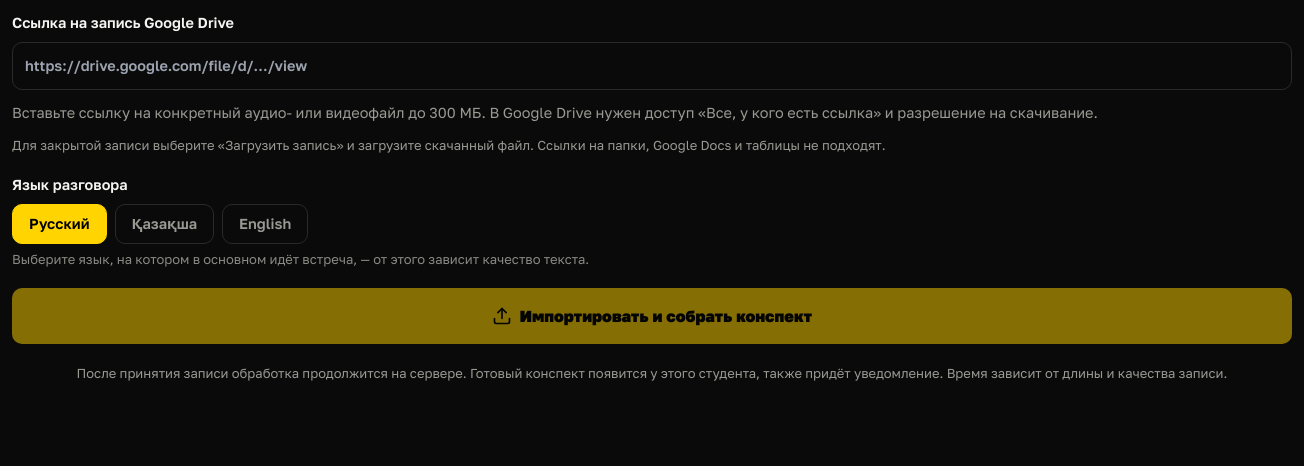
Test case: shows access errors and keeps the link for retry
The width and height of the screenshot is (1304, 466).
Type "https://drive.google.com/file/d/abc123def456ghi789/view" into the field labelled "Ссылка на запись Google Drive" at (652, 66), box x1=12 y1=42 x2=1292 y2=90
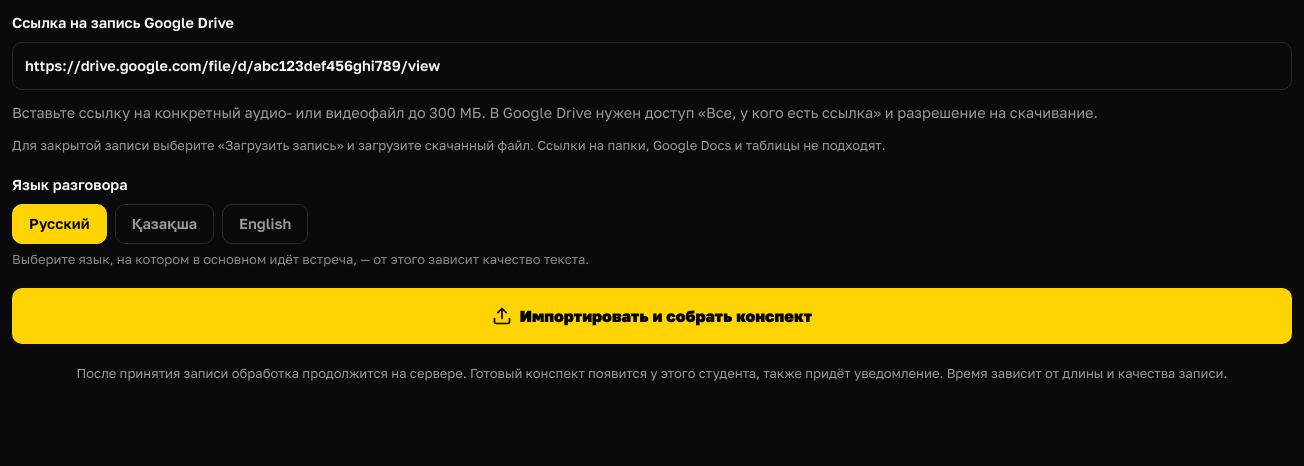
Click the button "Импортировать и собрать конспект" at (652, 316), box x1=12 y1=288 x2=1292 y2=344
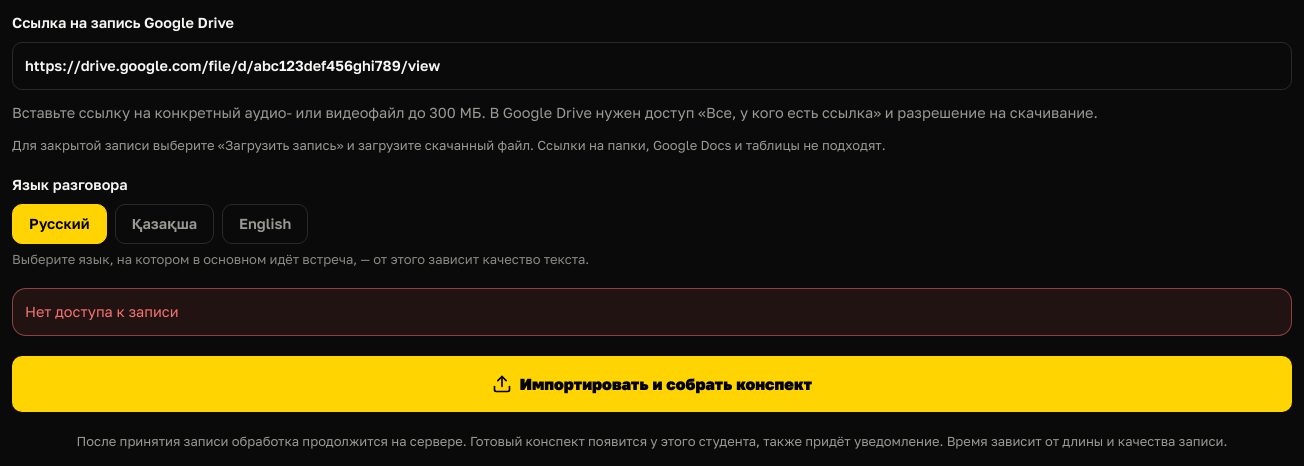
Result: the button "Импортировать и собрать конспект" is enabled at x1=12 y1=356 x2=1292 y2=412
Result: the text "Нет доступа к записи" is shown at x1=12 y1=288 x2=1292 y2=336
